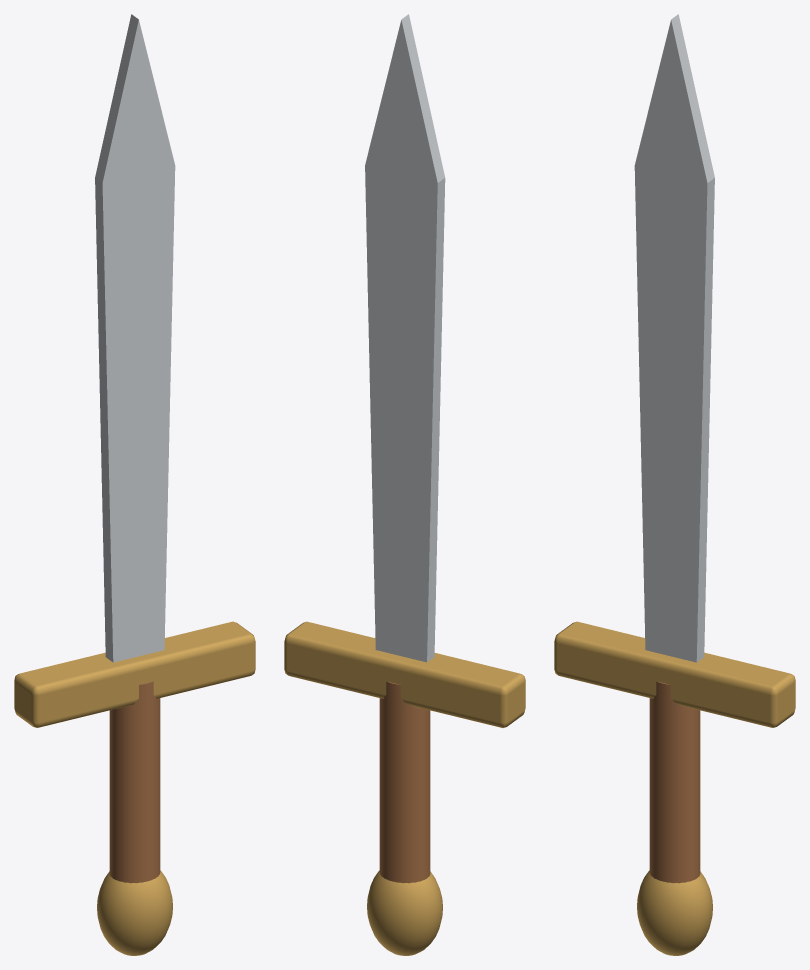
Rendered from wp-epee-de-chevalier.glb.
3 views of the same model, side by side, from view 1: azimuth 30°, elevation 25°; view 2: azimuth 150°, elevation 25°; view 3: azimuth 330°, elevation 25° (orthographic).
Parts seen in each view (by area): view 1: wp-epee-de-chevalier; view 2: wp-epee-de-chevalier; view 3: wp-epee-de-chevalier.
Boxes of the visible parts, left/top/right/bottom form: wp-epee-de-chevalier: left=14, top=14, right=255, bottom=955; wp-epee-de-chevalier: left=284, top=14, right=525, bottom=955; wp-epee-de-chevalier: left=554, top=14, right=795, bottom=955.
Size of the model in its own units: 0.25 by 1 by 0.07.
